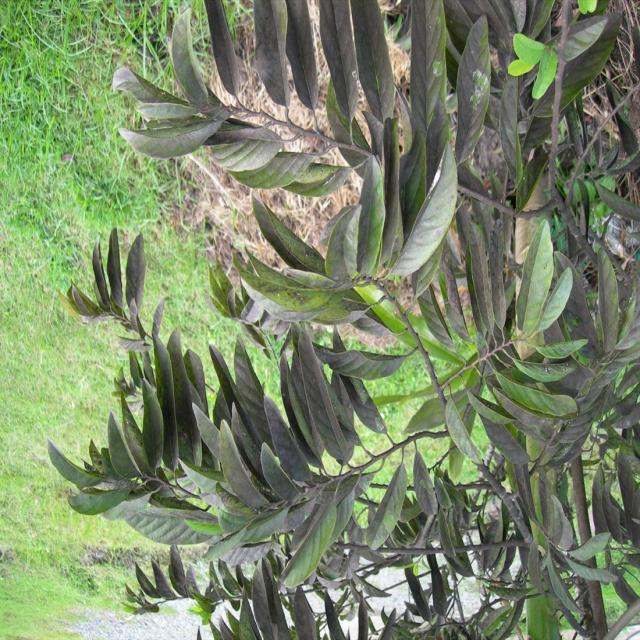Sooty Mold: (47, 0, 638, 638)
